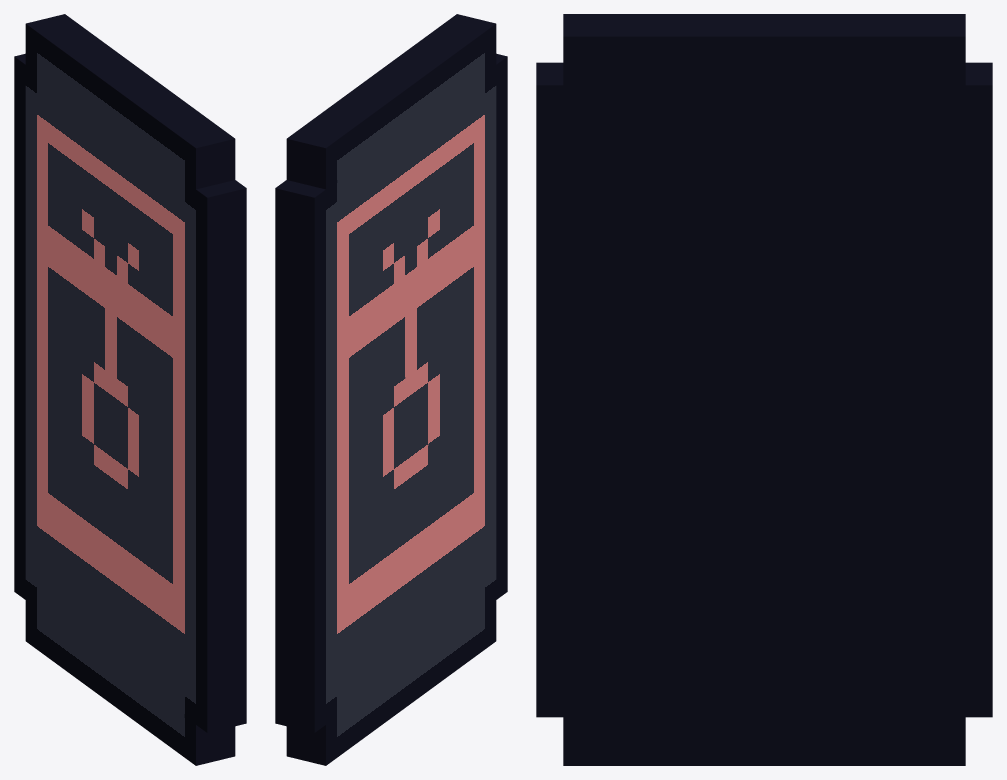
The model's file is literka_neo_1.dae.
The picture shows the model from 3 angles, left to right: view 1: azimuth 30°, elevation 25°; view 2: azimuth 150°, elevation 25°; view 3: azimuth 270°, elevation 25°; orthographic projection. The views are drawn at different scales.
Parts seen in each view (by area): view 1: Content; view 2: Content; view 3: Content.
Boxes of the visible parts, bbox=[...] form: Content: bbox=[14, 14, 246, 765]; Content: bbox=[275, 14, 507, 765]; Content: bbox=[536, 14, 992, 765].
Size of the model in its own units: 2 by 30 by 17.
1 material, 1 textured.
